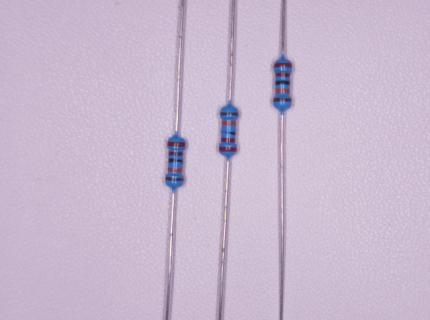Black band: (275, 80, 291, 86), (168, 158, 183, 164), (221, 130, 236, 135)
Brown band: (165, 176, 184, 182), (273, 97, 291, 102), (219, 112, 238, 116)
Orange band: (275, 88, 290, 93), (222, 121, 236, 126), (168, 168, 182, 173)
Red band: (219, 146, 238, 152), (274, 62, 293, 68), (167, 141, 186, 147), (275, 72, 290, 78), (220, 137, 236, 142), (168, 151, 183, 156)
